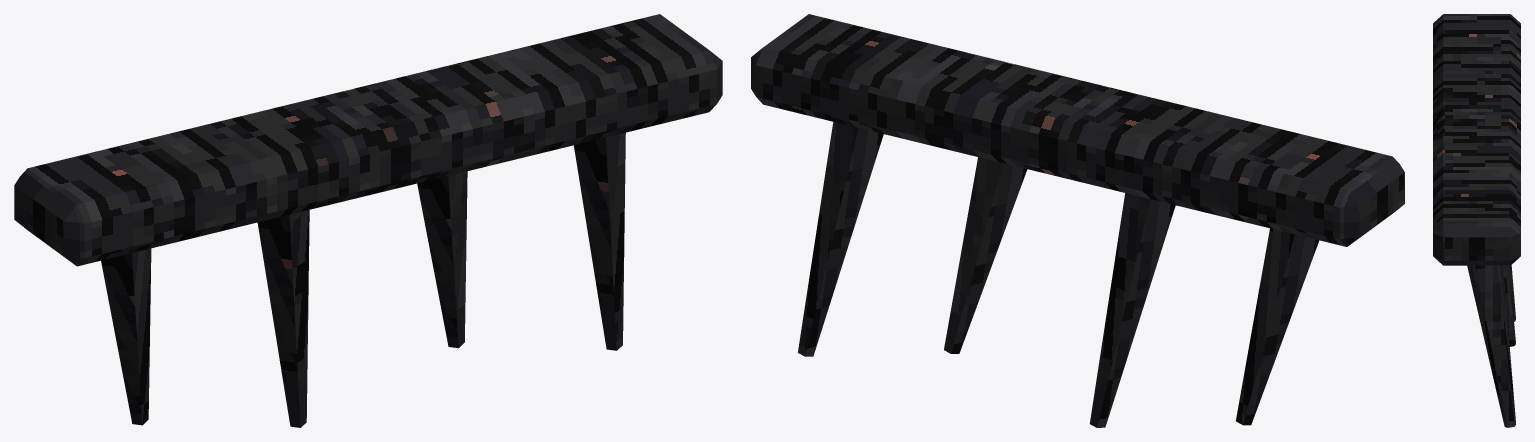
Rendered from beira_reta.fbx.
The picture shows the model from 3 angles, left to right: view 1: azimuth 30°, elevation 25°; view 2: azimuth 150°, elevation 25°; view 3: azimuth 270°, elevation 25°; orthographic projection. The views are drawn at different scales.
Visible parts, largest first — view 1: vulcao_beira_reta; view 2: vulcao_beira_reta; view 3: vulcao_beira_reta.
Part boxes in pixels (bbox=[...]): vulcao_beira_reta: bbox=[14, 14, 722, 427]; vulcao_beira_reta: bbox=[751, 14, 1404, 427]; vulcao_beira_reta: bbox=[1433, 14, 1520, 427].
Size of the model in its own units: 100 by 46.71 by 17.
1 material, 1 textured.
